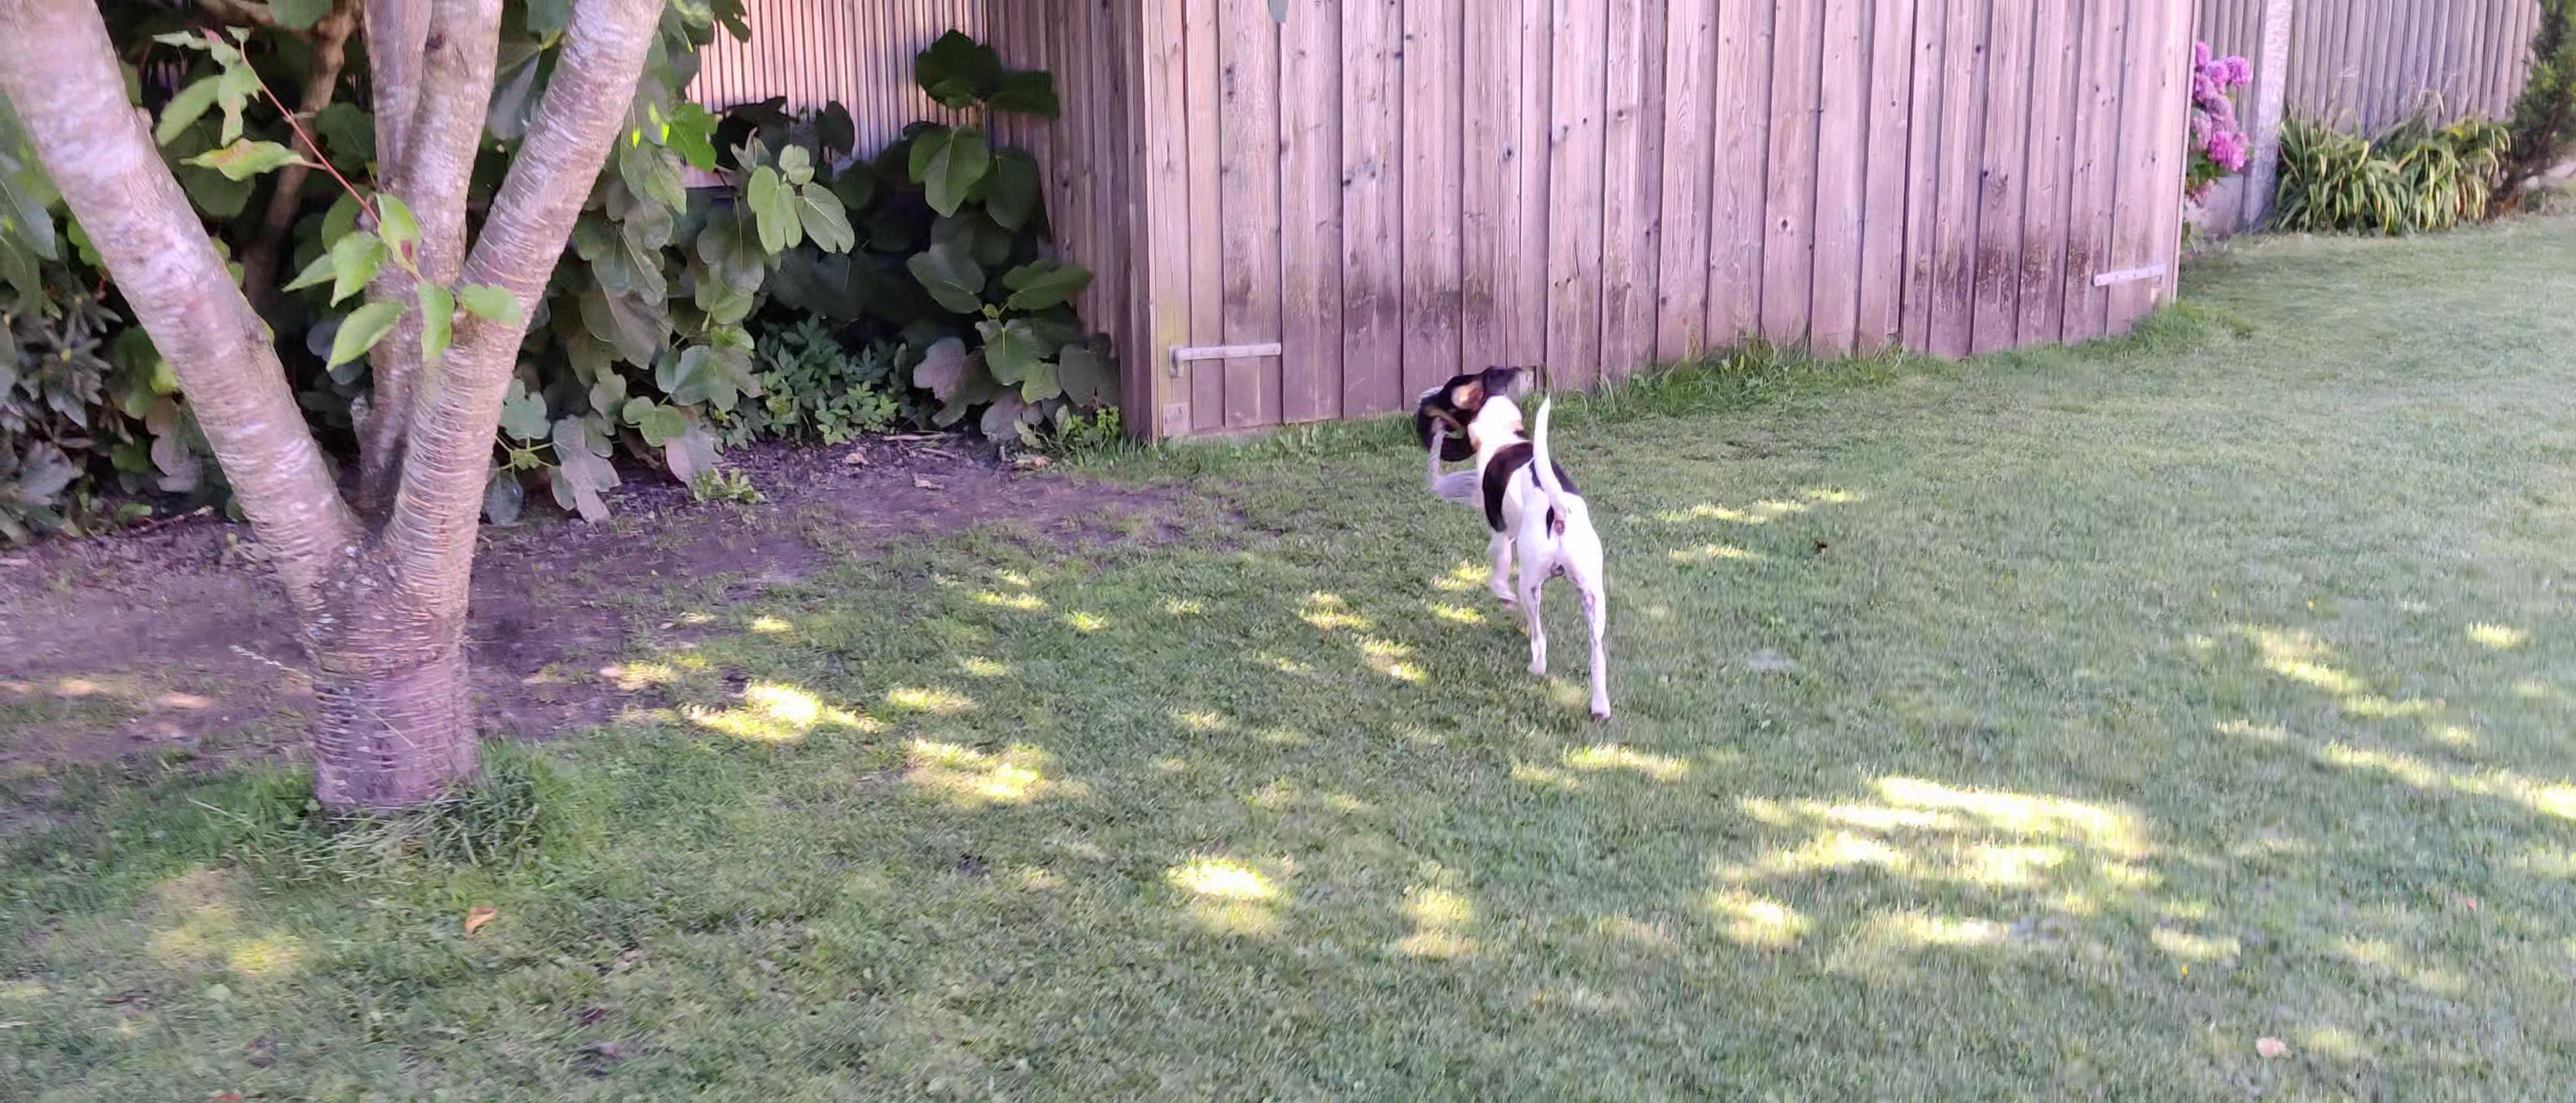Dog: (1421, 360, 1621, 728)
